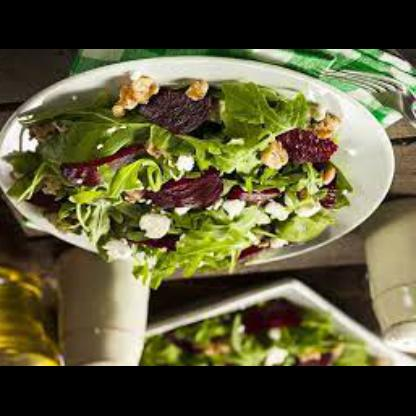salad: (2, 77, 354, 293), (140, 302, 388, 368)
